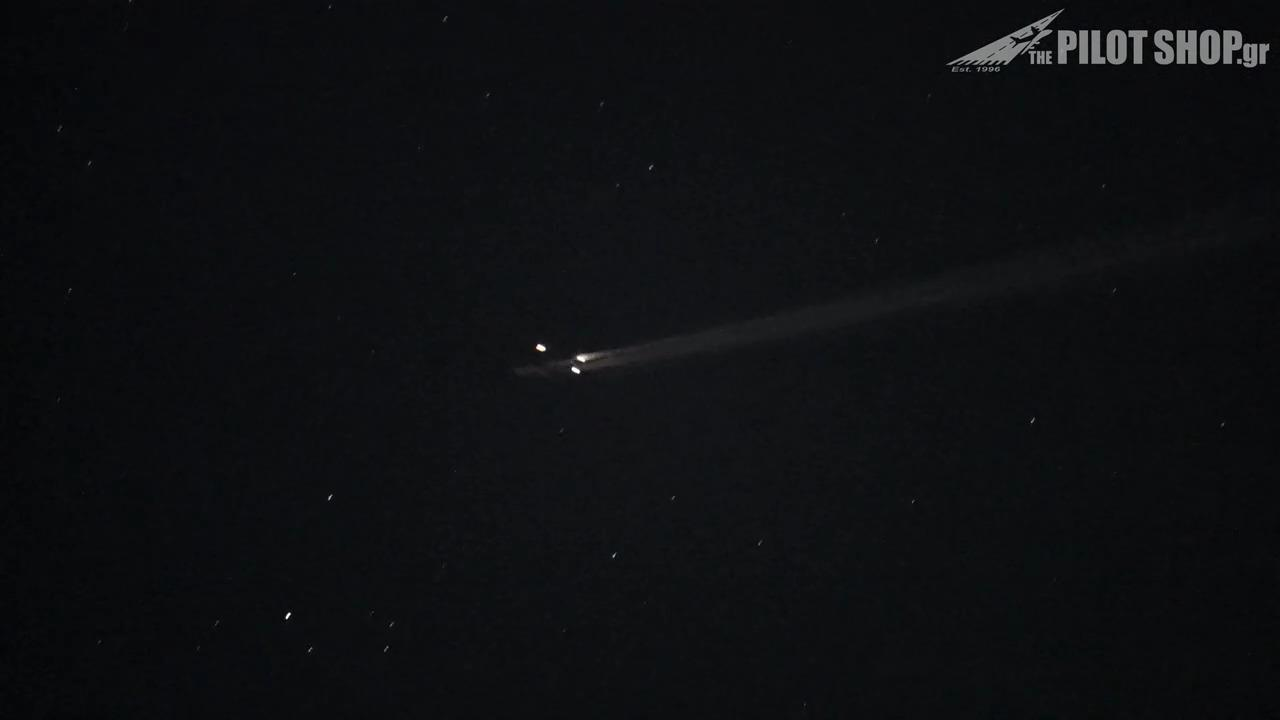Plane: (467, 333, 647, 390)
